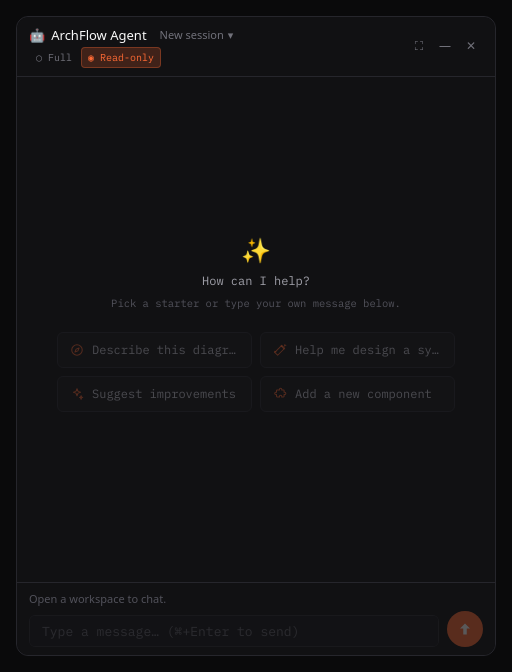
Test: ChatBubble › clicking close from open state hides the panel and shows FAB again
Click the button with test id "btn-close": [471, 46] box left=459, top=34, right=483, bottom=58
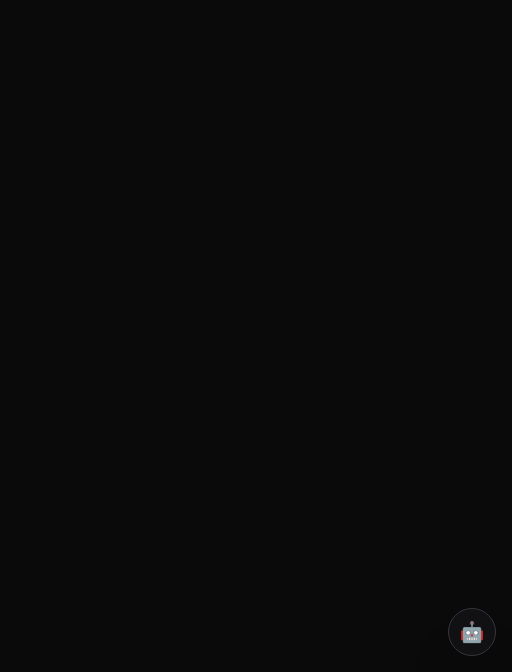
Expected: the button with test id "chat-bubble-fab" is shown, left=448, top=608, right=496, bottom=656
Now the element with test id "chat-panel" is gone
